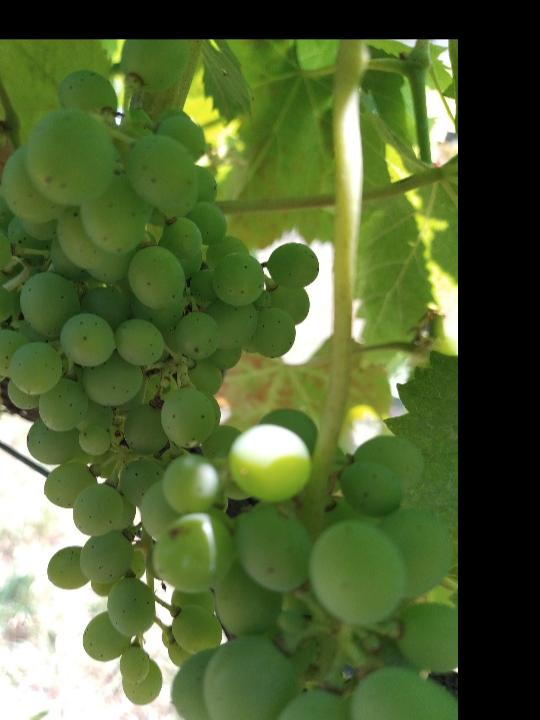grape: (0, 68, 321, 708)
